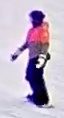snowboarder: (10, 10, 55, 109)
